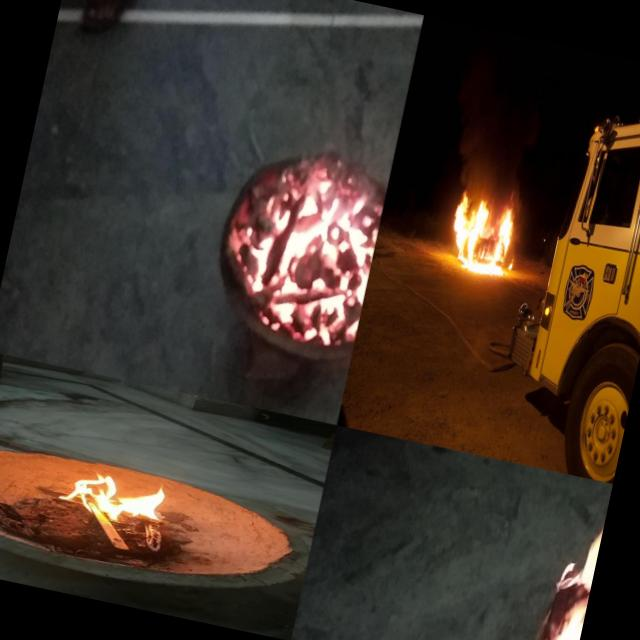fire: (230, 152, 388, 338), (524, 474, 612, 640), (50, 456, 174, 532), (442, 178, 524, 280)
